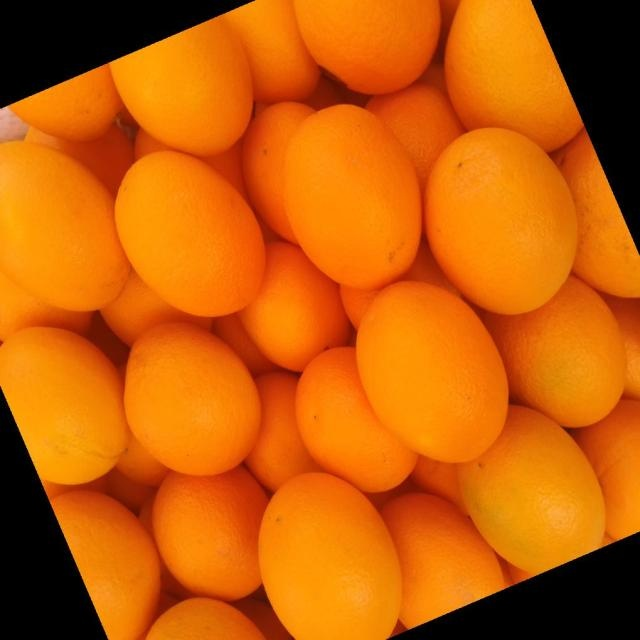agrume: (2, 1, 637, 636), (72, 140, 311, 331), (344, 265, 518, 480), (433, 389, 621, 583), (242, 455, 404, 640), (426, 128, 577, 312), (482, 271, 637, 436), (283, 105, 423, 286), (373, 489, 524, 631), (0, 141, 125, 308), (123, 324, 260, 476), (445, 1, 579, 151), (0, 327, 127, 485), (109, 19, 252, 154), (48, 490, 160, 637), (151, 468, 267, 599), (554, 126, 635, 292), (295, 2, 441, 94), (242, 102, 322, 244), (366, 84, 467, 192), (223, 1, 320, 101), (245, 374, 323, 492), (7, 65, 122, 139), (102, 270, 206, 349)
